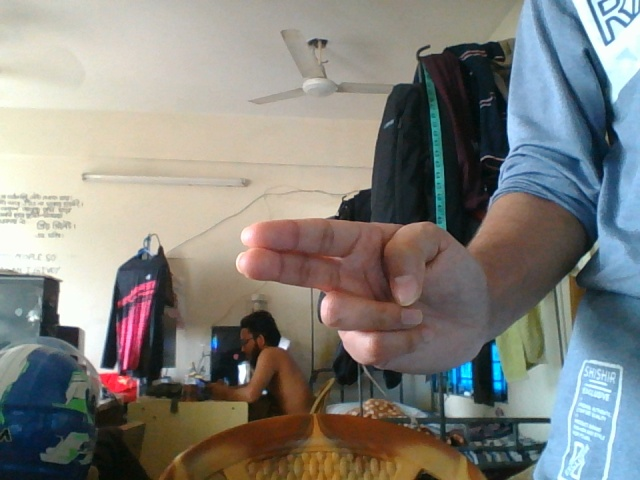ha: (220, 204, 513, 375)
